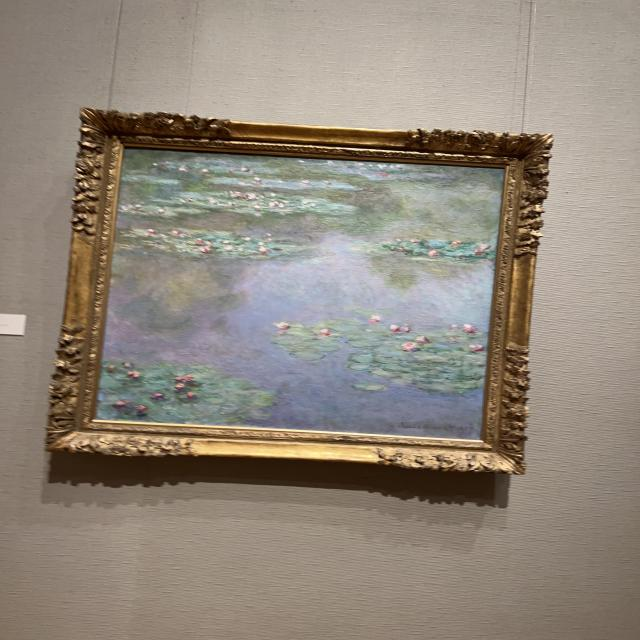lilies: (97, 150, 502, 437)
